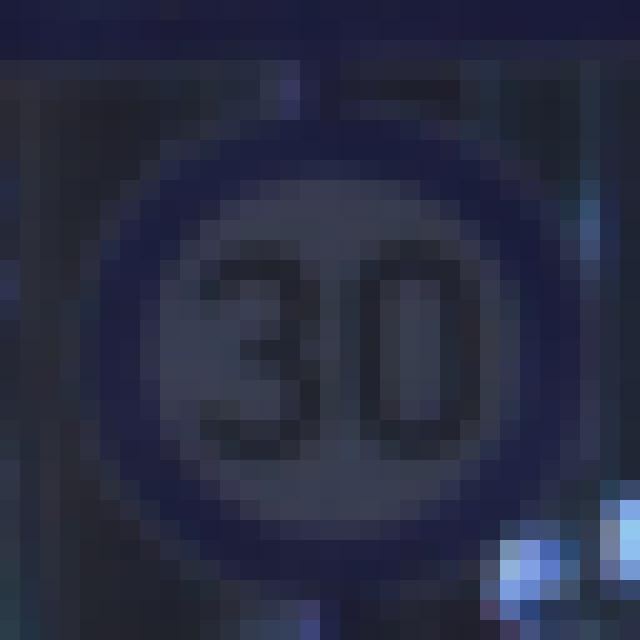SPEED LIMIT 30: (74, 132, 592, 586)
